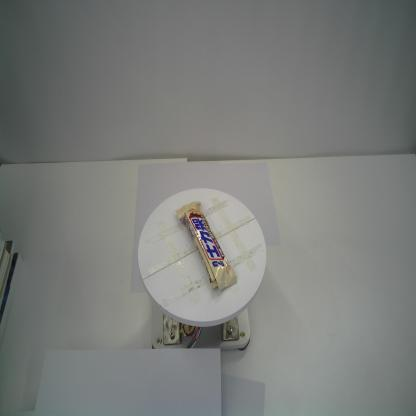Chocolate: (175, 199, 238, 291)
